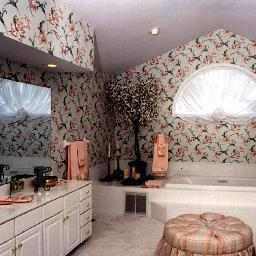Matera: (108, 74, 159, 178)
